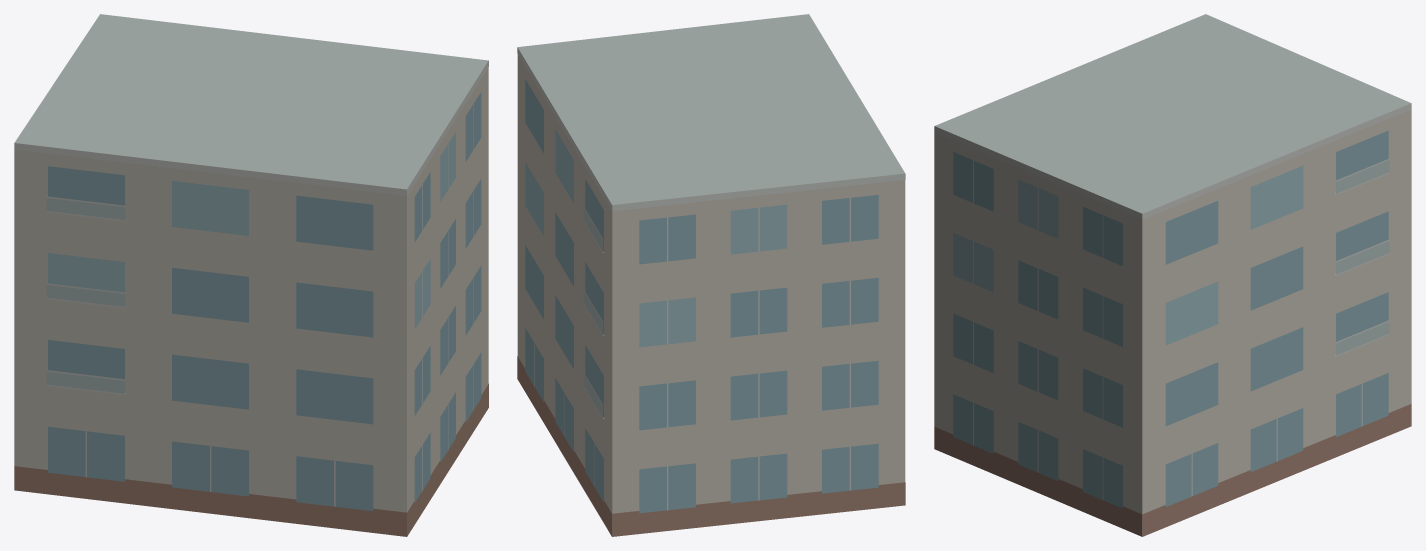
File: survey-upis-32881704.glb
The picture shows the model from 3 angles, left to right: view 1: azimuth 30°, elevation 25°; view 2: azimuth 150°, elevation 25°; view 3: azimuth 270°, elevation 25°; orthographic projection. The views are drawn at different scales.
Parts seen in each view (by area): view 1: survey-upis-32881704.tmp; view 2: survey-upis-32881704.tmp; view 3: survey-upis-32881704.tmp.
Boxes of the visible parts, x1=… form: survey-upis-32881704.tmp: x1=14, y1=14, x2=488, y2=536; survey-upis-32881704.tmp: x1=517, y1=14, x2=905, y2=536; survey-upis-32881704.tmp: x1=934, y1=14, x2=1411, y2=536.
Size of the model in its own units: 17.18 by 12.95 by 17.34.
